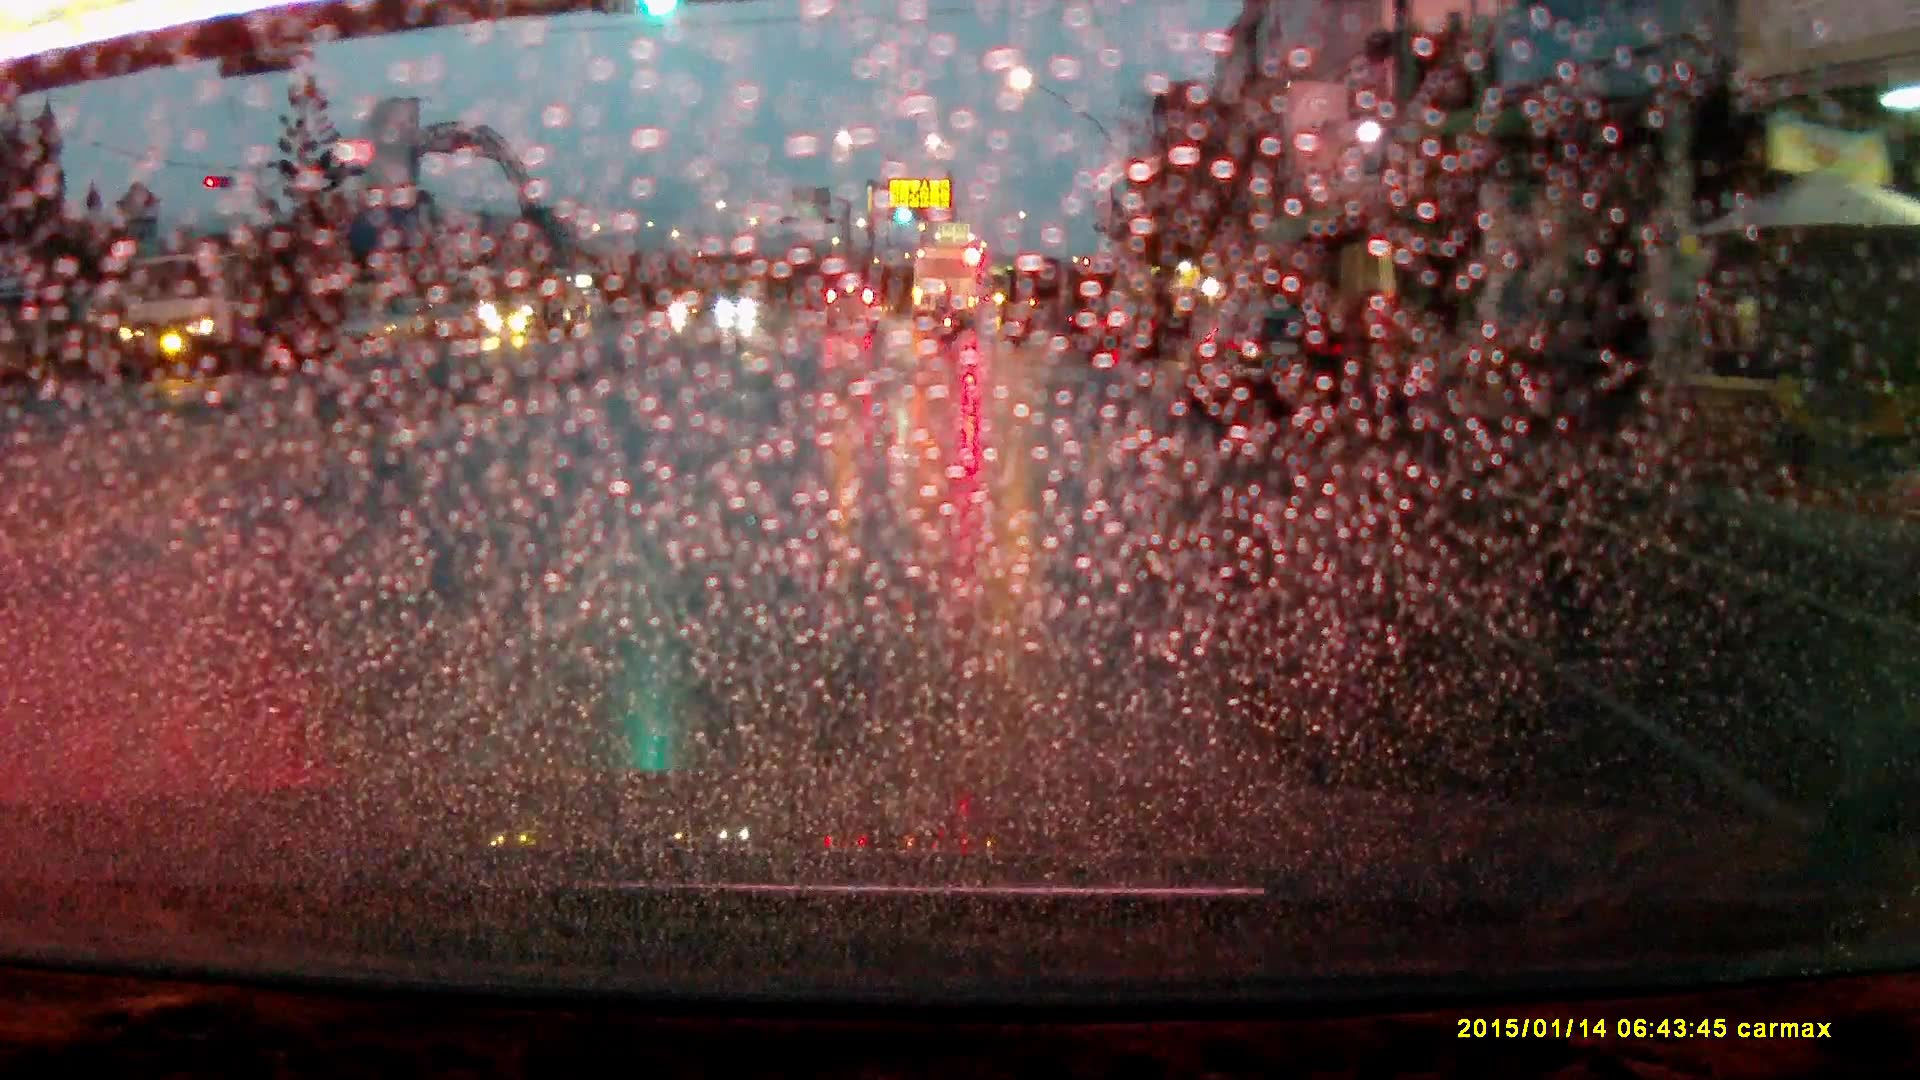rider: (936, 289, 964, 351)
vehicle: (112, 250, 321, 380), (1183, 310, 1359, 417), (482, 263, 583, 339), (912, 246, 981, 330), (1083, 302, 1162, 359), (826, 286, 884, 334), (715, 294, 761, 322)
